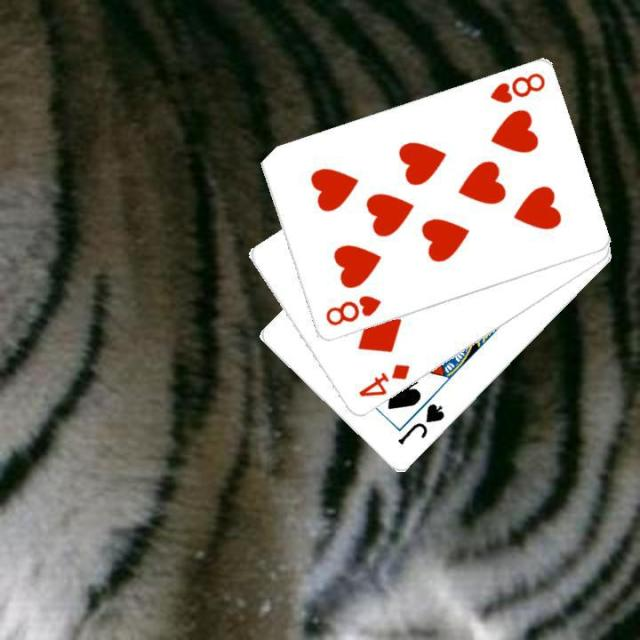4D: (354, 360, 412, 400)
8H: (321, 291, 383, 329), (485, 69, 547, 106)
JS: (394, 399, 447, 447)
